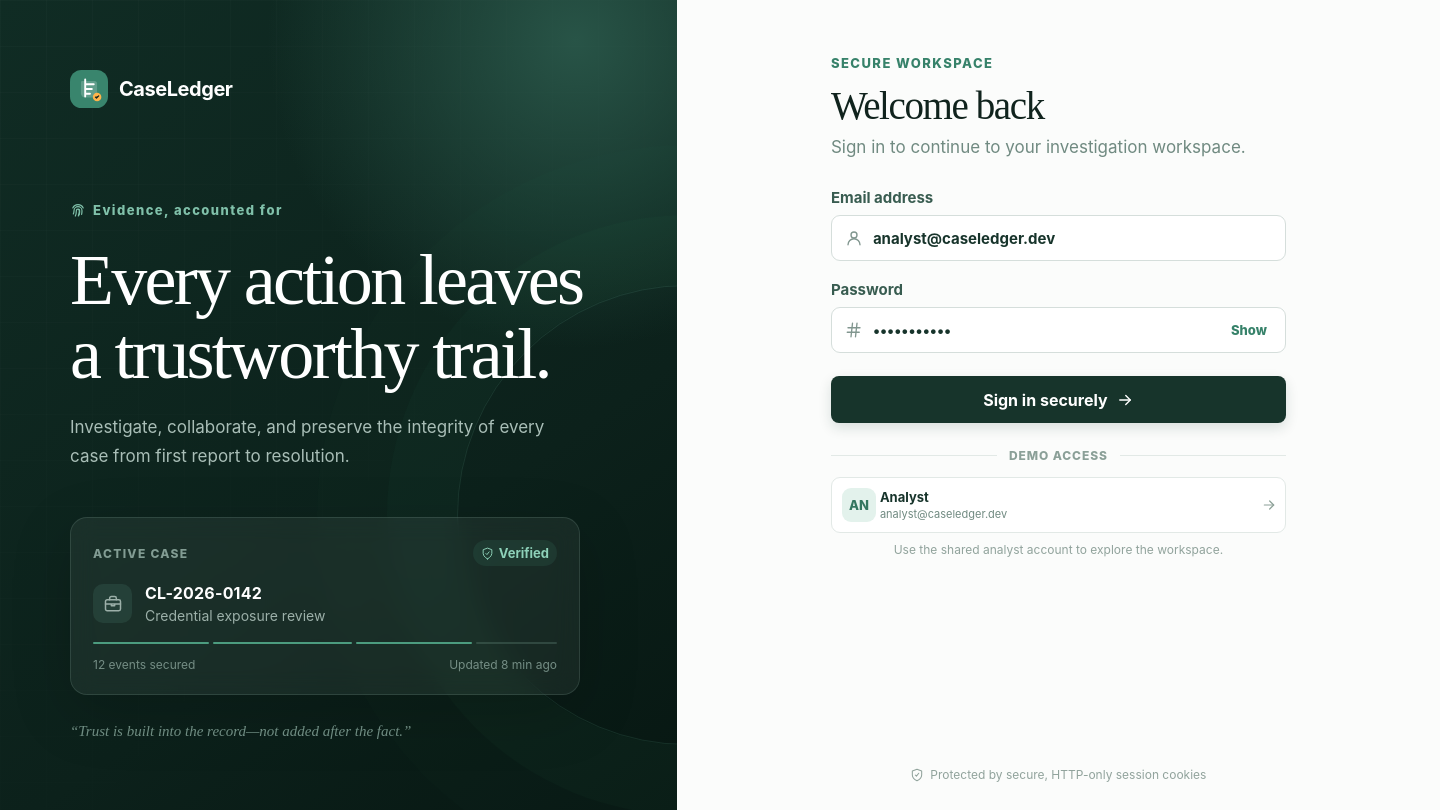
Test: LoginPage › announces a failed sign-in and allows another attempt
The image size is (1440, 810).
Click the button "Sign in securely": (1058, 400) top-left (831, 376), bottom-right (1286, 423)
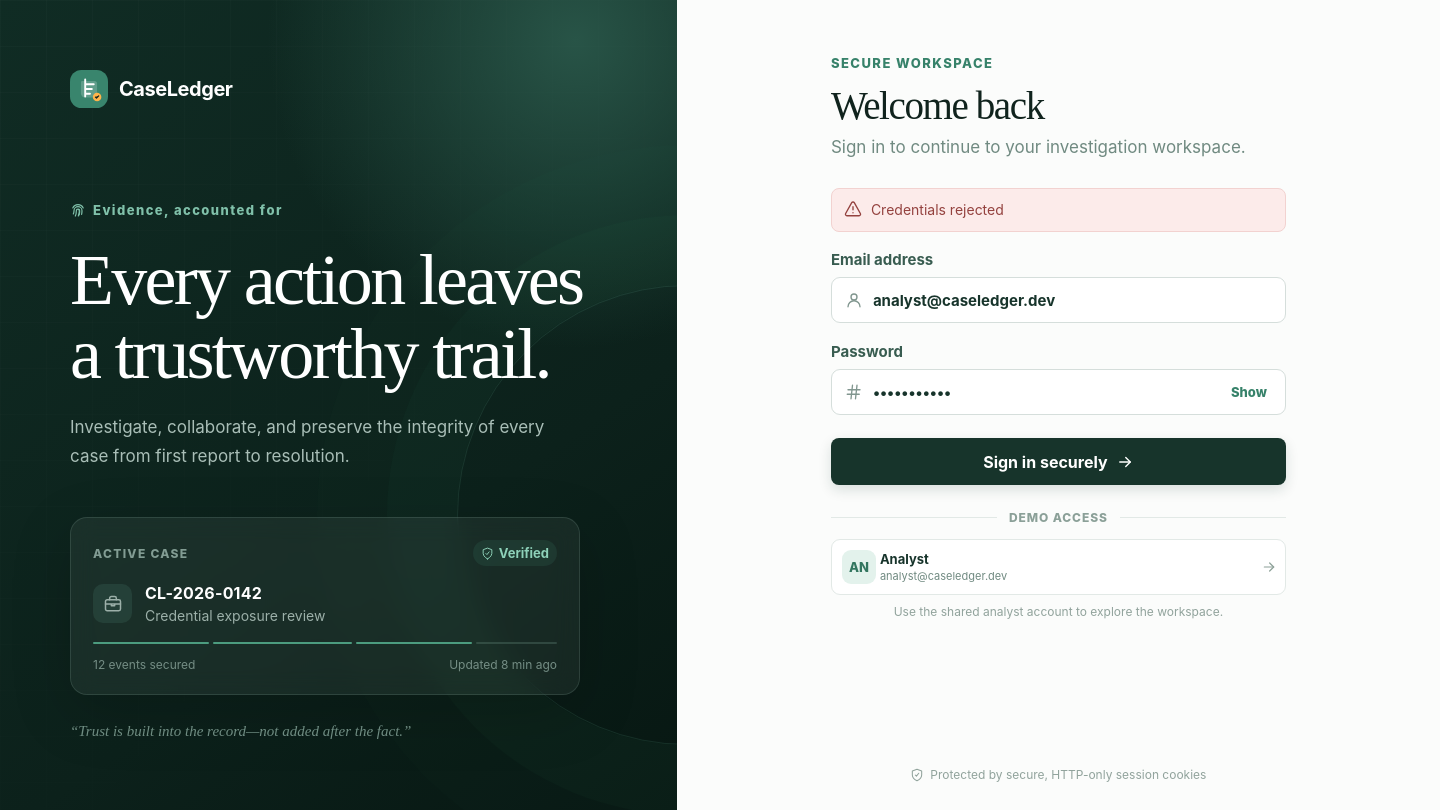
Expected: the button "Sign in securely" is enabled, top-left (831, 438), bottom-right (1286, 485)
Expected: the message reads "Credentials rejected", top-left (871, 201), bottom-right (1004, 218)
